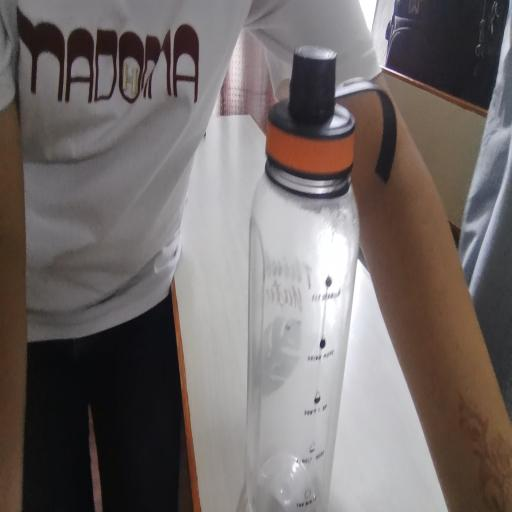Bottle: (270, 53, 359, 504)
